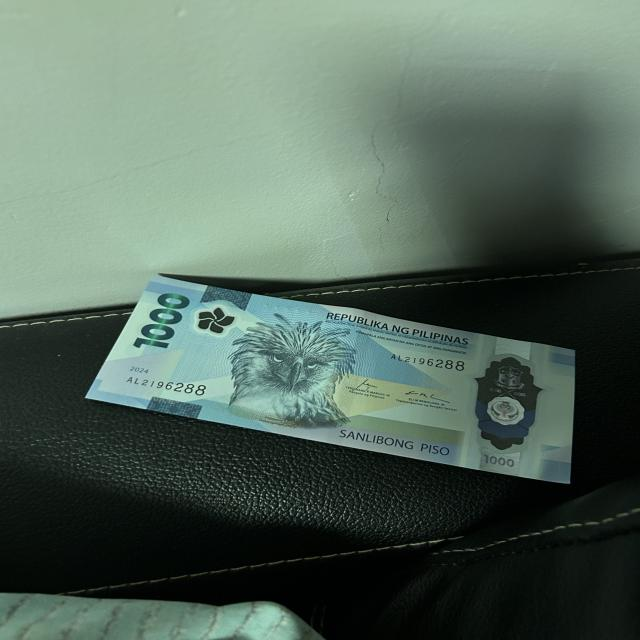clear_window: (463, 348, 540, 454)
eagle: (234, 320, 347, 426)
sampaguita: (193, 303, 238, 338)
